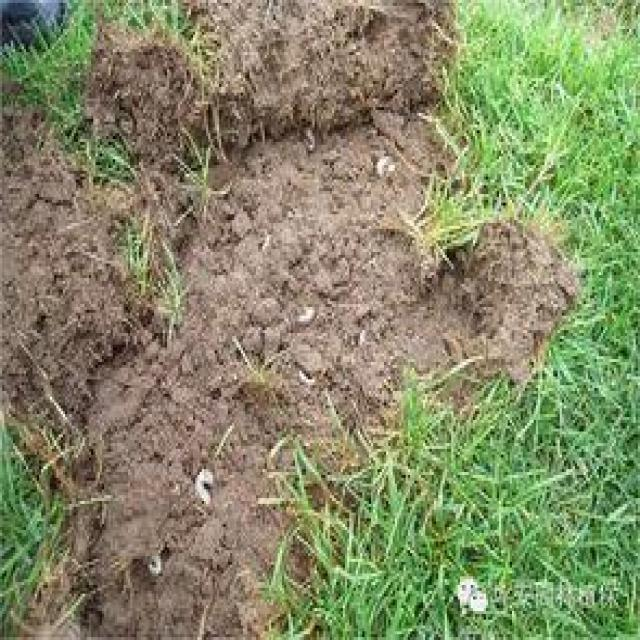Grub-Adult-: (189, 463, 219, 508), (136, 546, 168, 582), (299, 120, 322, 162), (372, 148, 400, 181), (293, 364, 320, 394), (294, 303, 323, 327)
